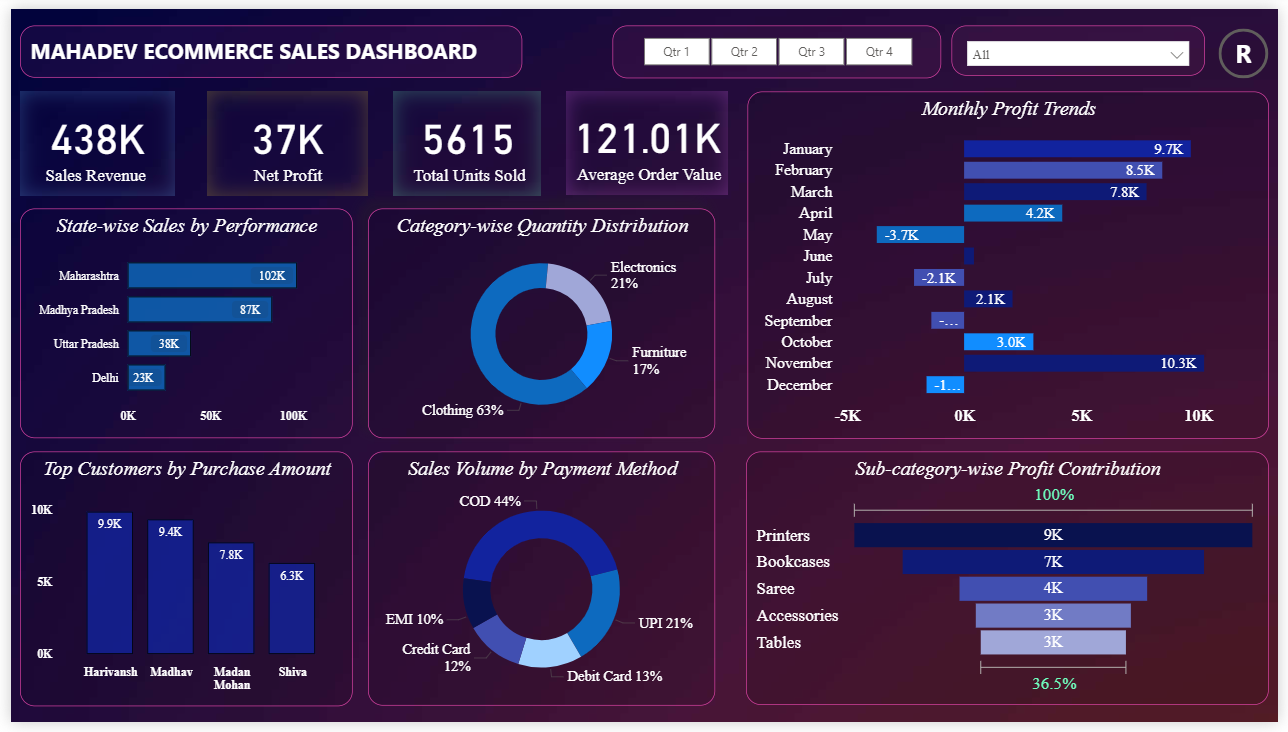

The dashboard page shown, as its layout file describes it:
{"tool":"powerbi","page":{"name":"Page 1","canvas":[1280,720],"ordinal":0},"visuals":[{"type":"clusteredBarChart","title":"Profit by Month","fields":{"Category":["Orders.Order Date.Variation.Date Hierarchy.Month"],"Y":["Details.Profit"]},"box":[743.5,83.4,526.3,350.9],"z":0},{"type":"funnel","title":"Total Profit by Sub-Category","fields":{"Category":["Details.Sub-Category"],"Y":["Details.Profit"]},"box":[742.1,447.3,527.8,256],"z":1000},{"type":"donutChart","fields":{"Category":["Details.Category"],"Y":["Details.Quantity"]},"box":[360.4,201.9,350.9,232.1],"z":2000},{"type":"donutChart","title":"Total Quantity by Payment Mode","fields":{"Y":["Details.Quantity"],"Category":["Details.PaymentMode"]},"box":[360.4,447.2,350.9,256.6],"z":3000},{"type":"card","fields":{"Values":["Details.Amount"]},"box":[9.4,83,156.6,105.7],"z":4000},{"type":"card","fields":{"Values":["Details.Quantity"]},"box":[386.8,83,149.1,105.7],"z":5000},{"type":"card","fields":{"Values":["Details.Profit"]},"box":[198.1,83,162.3,105.7],"z":6000},{"type":"card","fields":{"Values":["Details.AOV"]},"box":[560.9,83.4,163.9,105],"z":7000},{"type":"barChart","fields":{"Category":["Orders.State"],"Y":["Details.Amount"]},"box":[9.4,201.9,335.8,232.1],"z":8000},{"type":"columnChart","fields":{"Category":["Orders.CustomerName"],"Y":["Details.Amount"]},"box":[9,447,336,257],"z":9000},{"type":"textbox","box":[9.4,17,507.5,52.8],"z":10000},{"type":"slicer","fields":{"Values":["Orders.Order Date.Variation.Date Hierarchy.Quarter"]},"box":[606.9,17.3,332.2,53.2],"z":11000},{"type":"slicer","title":"S","fields":{"Values":["Orders.State"]},"box":[950.6,17.3,256,50.3],"z":12000},{"type":"actionButton","box":[1219.5,20.1,50.3,50.3],"z":13000}]}

Visuals, with their boxes in screenshot pixels (x1, y1, x2, y2), scaled from the page's 1280x720 canvas onto the 1288x732 screenshot:
"Profit by Month" clusteredBarChart: detection(748, 85, 1278, 442)
"Total Profit by Sub-Category" funnel: detection(747, 455, 1278, 715)
donutChart - Details.Category x Details.Quantity: detection(363, 205, 716, 441)
"Total Quantity by Payment Mode" donutChart: detection(363, 455, 716, 716)
card - Details.Amount: detection(9, 84, 167, 192)
card - Details.Quantity: detection(389, 84, 539, 192)
card - Details.Profit: detection(199, 84, 363, 192)
card - Details.AOV: detection(564, 85, 729, 192)
barChart - Orders.State x Details.Amount: detection(9, 205, 347, 441)
columnChart - Orders.CustomerName x Details.Amount: detection(9, 454, 347, 716)
textbox: detection(9, 17, 520, 71)
slicer - Orders.Order Date.Variation.Date Hierarchy.Quarter: detection(611, 18, 945, 72)
"S" slicer: detection(957, 18, 1214, 69)
actionButton: detection(1227, 20, 1278, 72)
